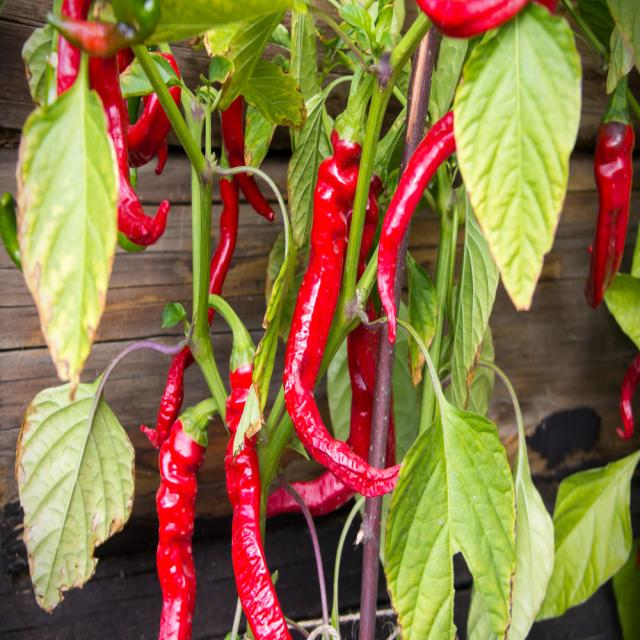Half-Ripe: (48, 14, 138, 57)
Ripe: (284, 129, 399, 496), (209, 294, 290, 639), (264, 330, 398, 523), (378, 111, 456, 342), (89, 56, 169, 245), (156, 420, 205, 638), (585, 120, 634, 308), (220, 101, 276, 227), (141, 347, 194, 448), (416, 1, 529, 37), (209, 178, 239, 295), (56, 0, 91, 96), (128, 94, 171, 167), (359, 174, 381, 275), (618, 352, 640, 440)
